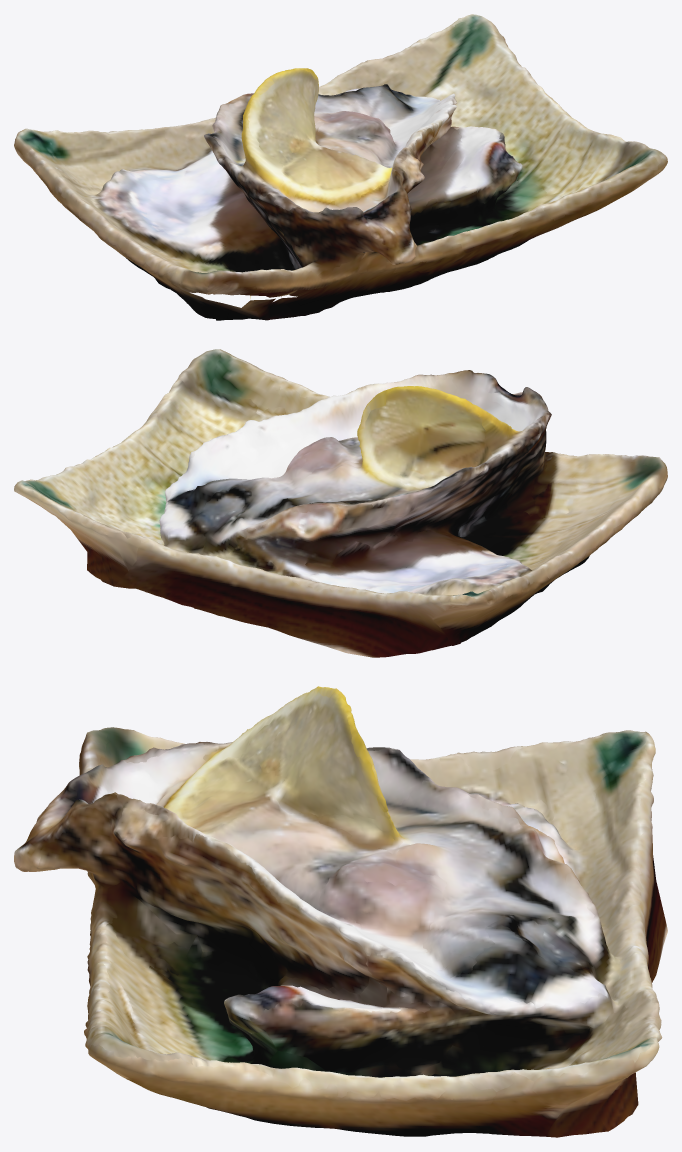
Rendered from oysters.glb.
3 renders of one model, top to bottom at view 1: azimuth 30°, elevation 25°; view 2: azimuth 150°, elevation 25°; view 3: azimuth 270°, elevation 25°, orthographic. The views are drawn at different scales.
Visible parts, largest first — view 1: Object_2; view 2: Object_2; view 3: Object_2.
Part boxes in pixels (x1=…): Object_2: x1=14, y1=14, x2=667, y2=320; Object_2: x1=14, y1=349, x2=667, y2=657; Object_2: x1=14, y1=686, x2=667, y2=1137.
Size of the model in its own units: 0.1888 by 0.0664 by 0.152.
1 material, 1 textured.
